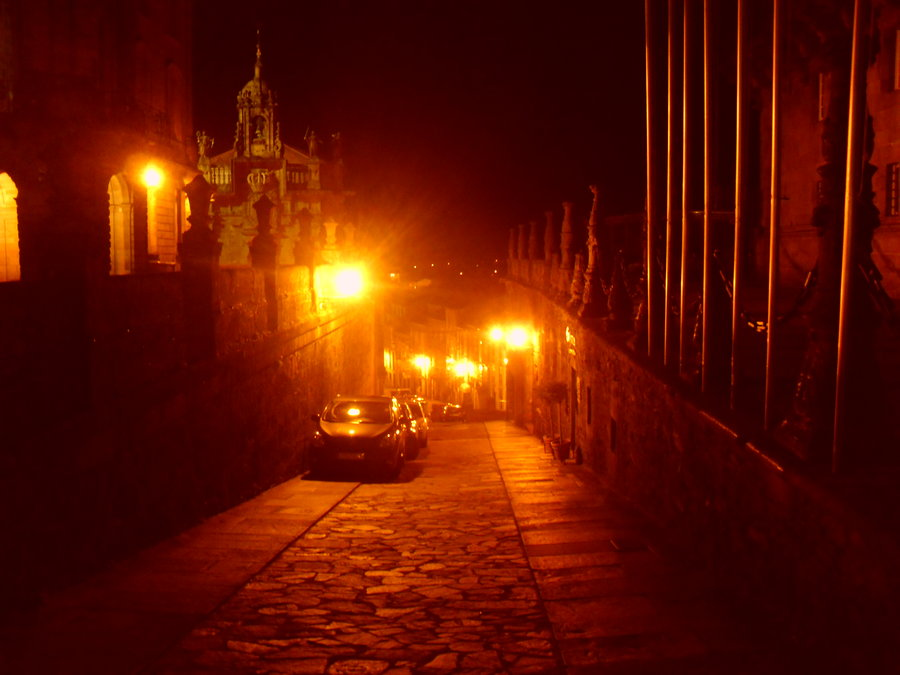car: (303, 392, 414, 487)
